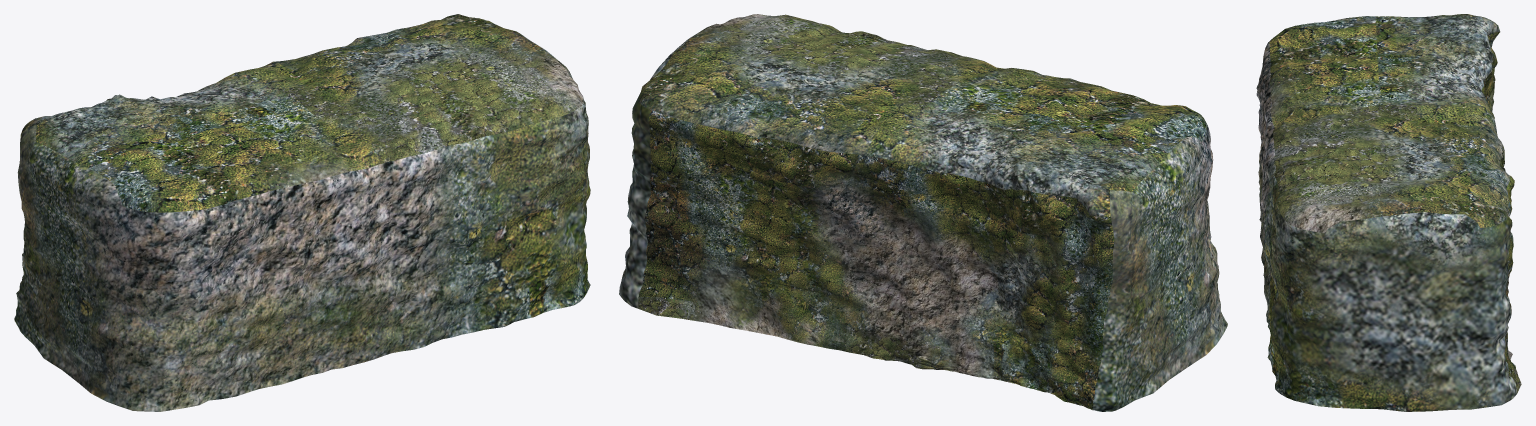
Rendered from xuanya_1.1.fbx.
3 renders of one model, left to right at view 1: azimuth 30°, elevation 25°; view 2: azimuth 150°, elevation 25°; view 3: azimuth 270°, elevation 25°, orthographic. The views are drawn at different scales.
Parts seen in each view (by area): view 1: Dxuanya_1:Group2; view 2: Dxuanya_1:Group2; view 3: Dxuanya_1:Group2.
Part boxes in pixels (x1=…): Dxuanya_1:Group2: x1=14, y1=14, x2=590, y2=411; Dxuanya_1:Group2: x1=619, y1=14, x2=1227, y2=411; Dxuanya_1:Group2: x1=1256, y1=14, x2=1521, y2=411.
Bounding box in the file's own units: 2821 × 1193 × 1435.
